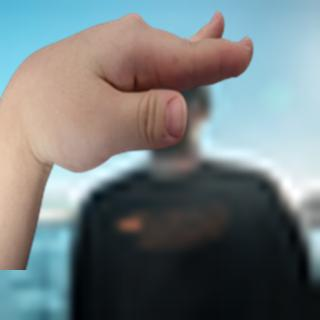Wait: (0, 12, 260, 175)
